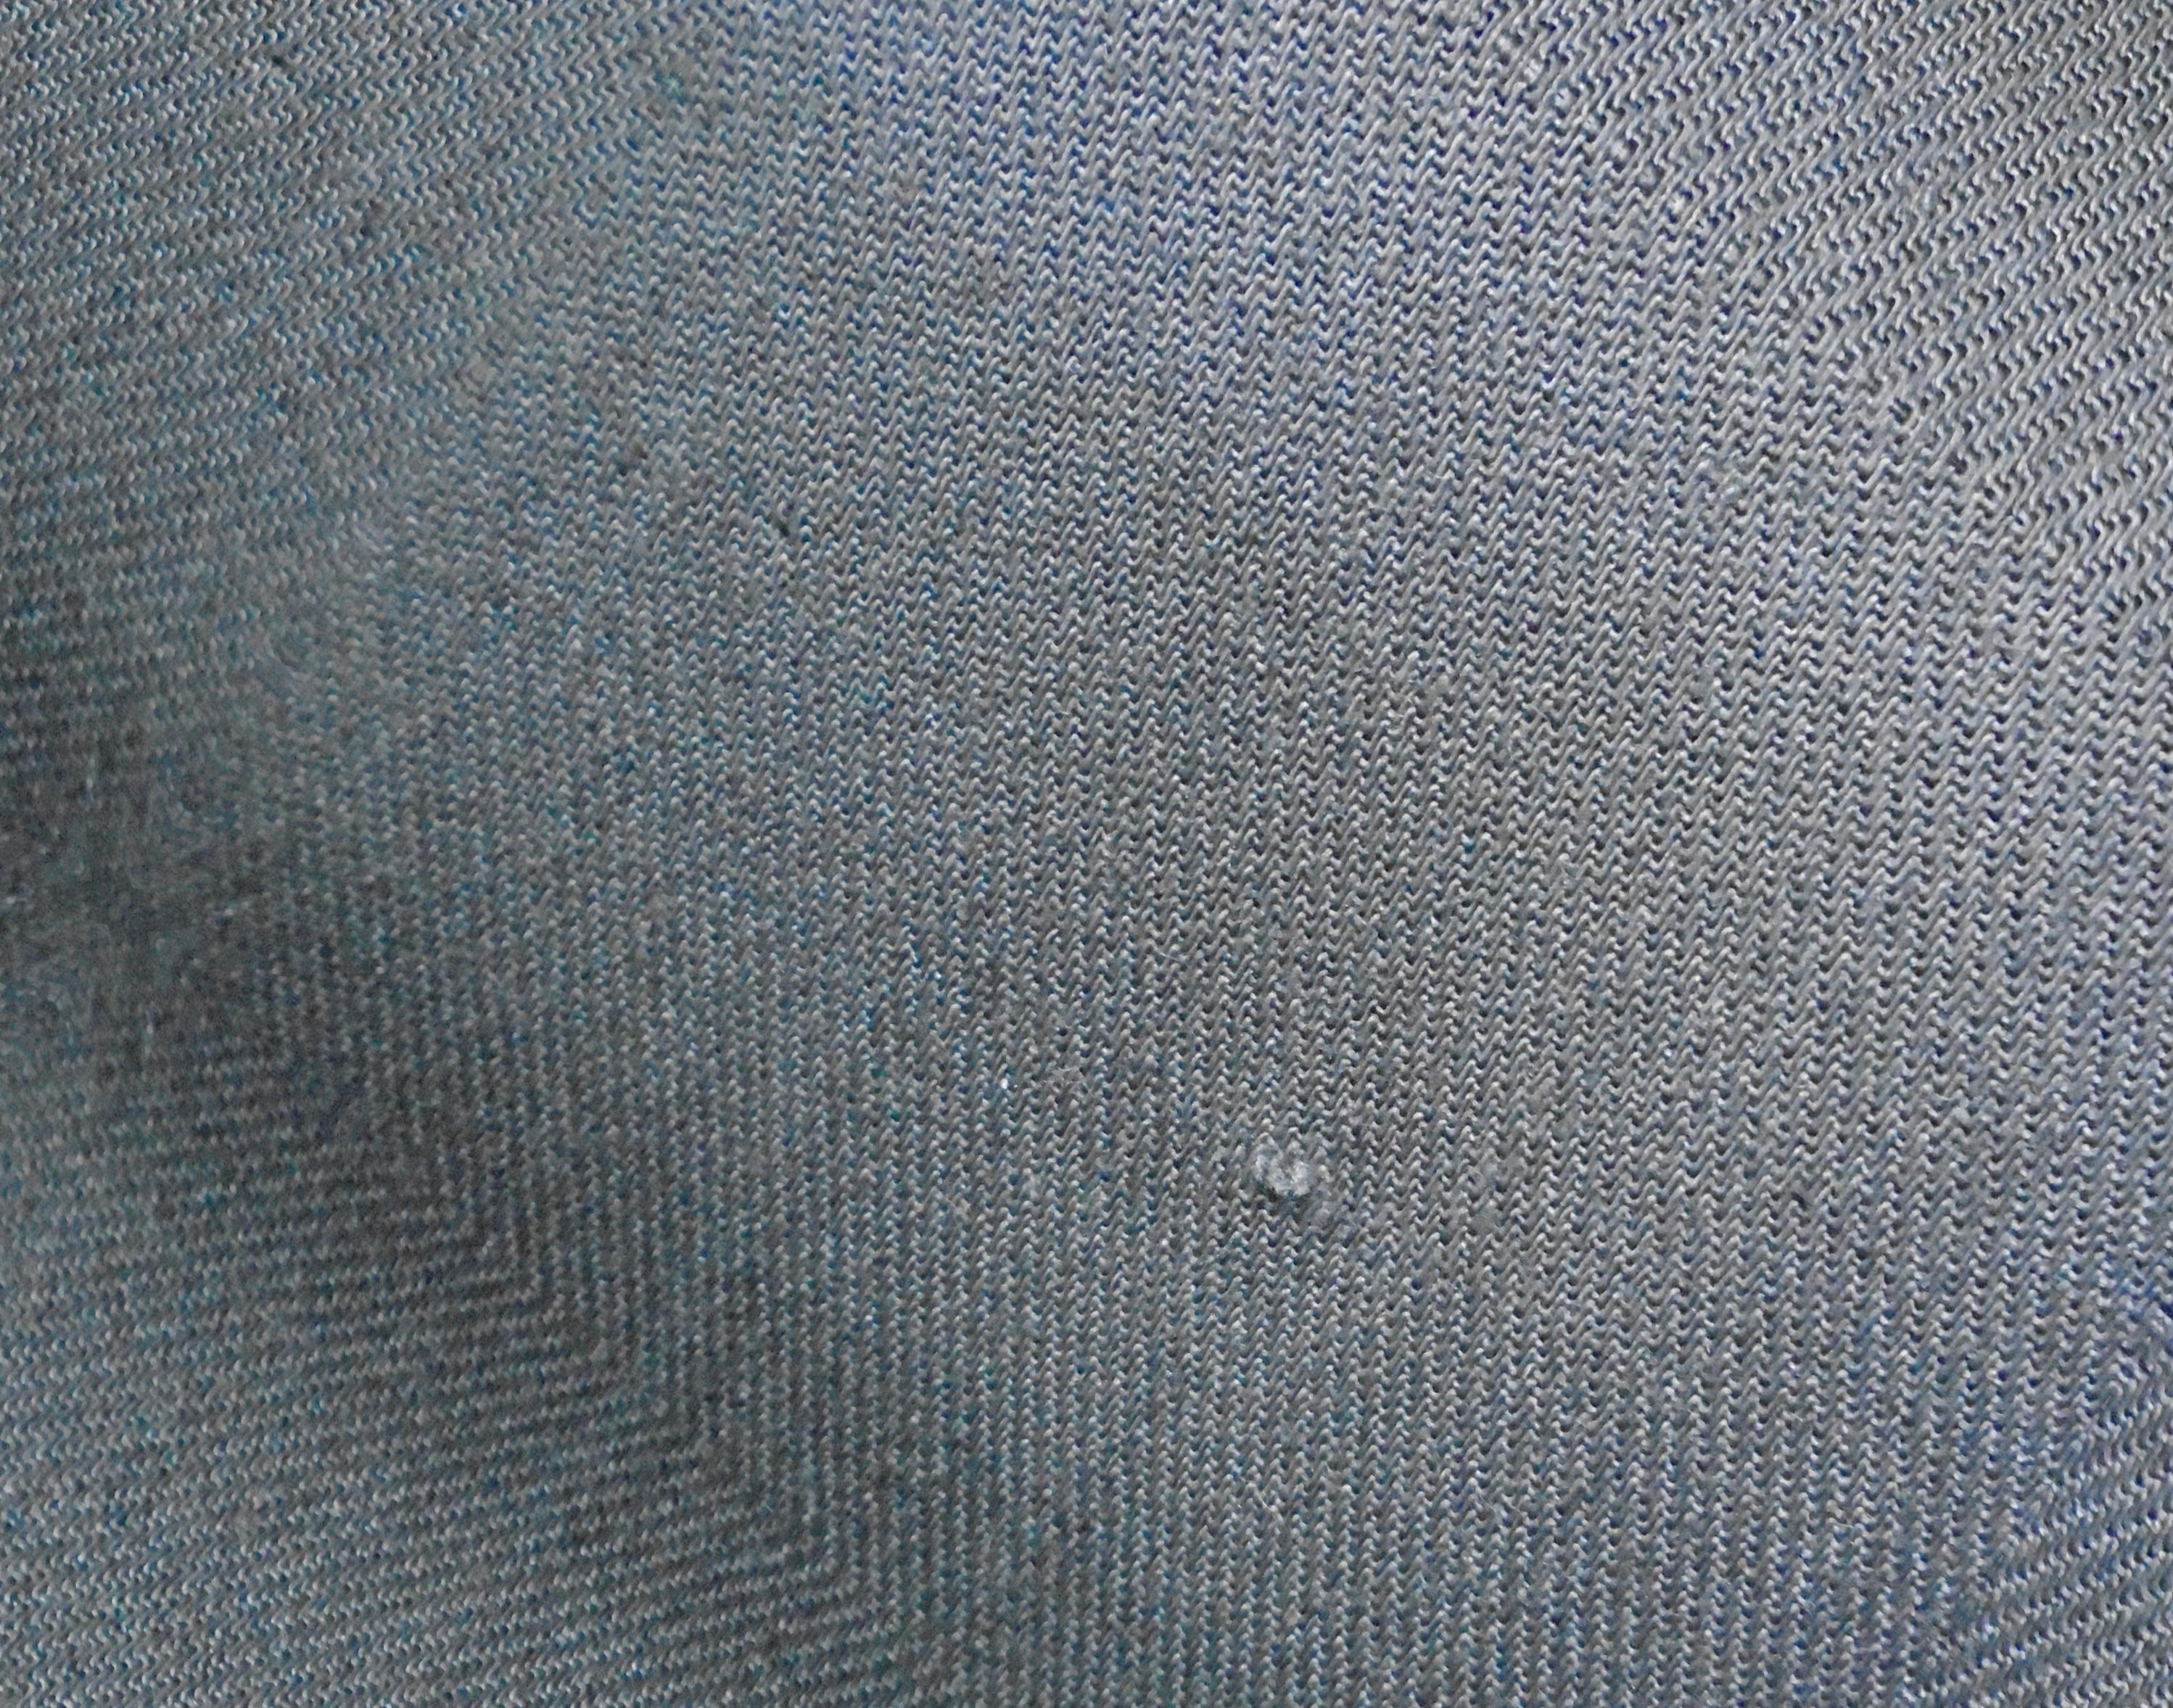knot: (1196, 1105, 1369, 1244)
